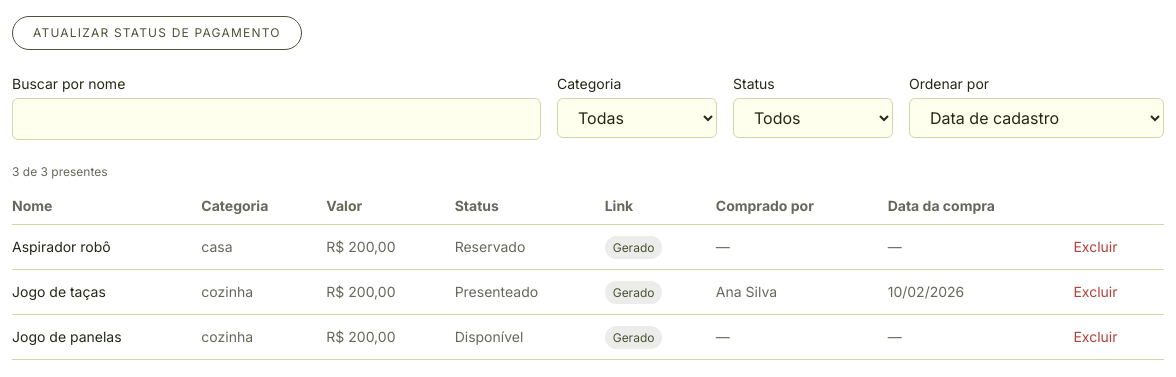
Test case: GiftsTable › filters by category
Select "cozinha" in the dropdown labelled "Categoria" at (637, 118), box [557,98,717,138]
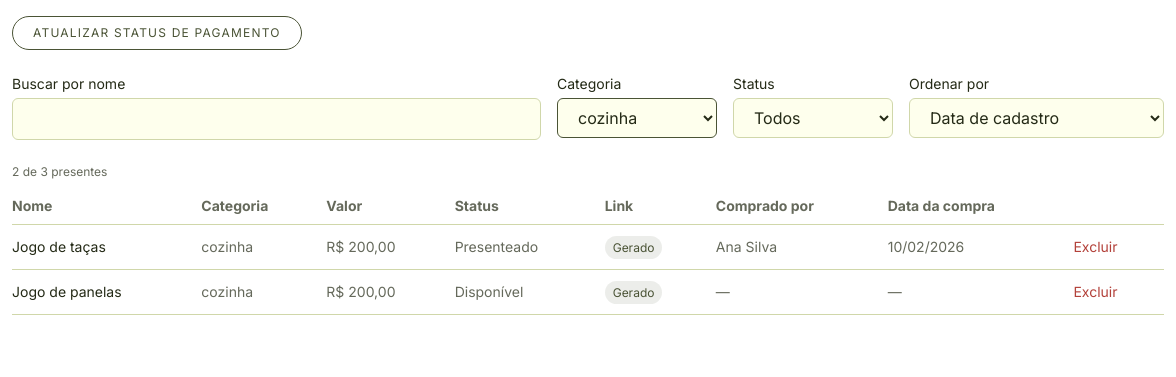
Expected: the link "Jogo de panelas" is shown, [12,283,122,300]
Result: the link "Aspirador robô" is gone
